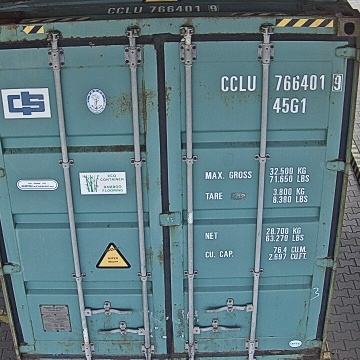serial_id: (221, 74, 343, 91)
